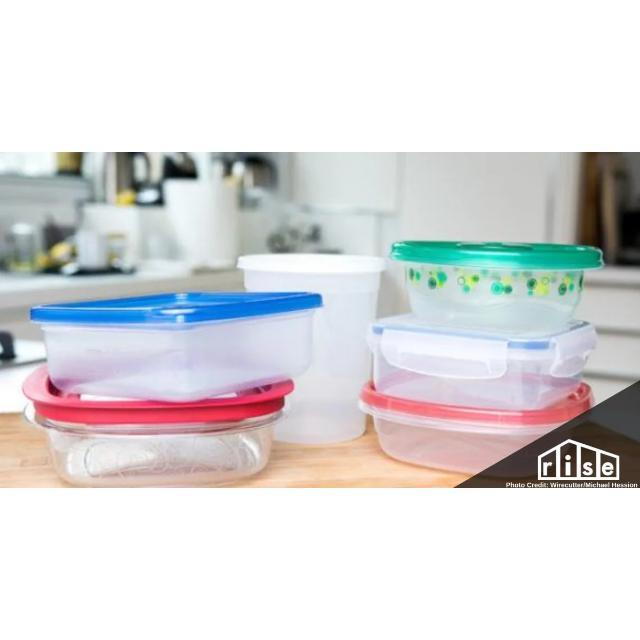plastic: (22, 241, 601, 486)
